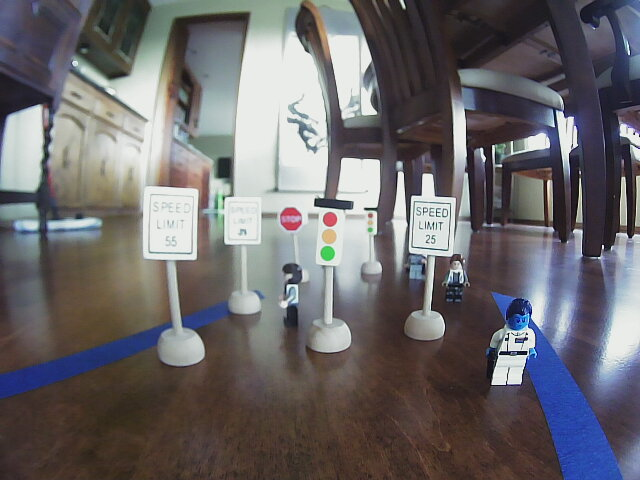SpeedLimit25: (409, 197, 453, 253)
SpeedLimit35: (225, 195, 262, 246)
SpeedLimit55: (142, 186, 200, 264)
StopSign: (277, 205, 305, 232)
TrafficLight: (315, 196, 346, 269), (360, 202, 379, 240)
person: (482, 290, 541, 396), (271, 259, 304, 330), (439, 257, 471, 307), (406, 247, 424, 283)
